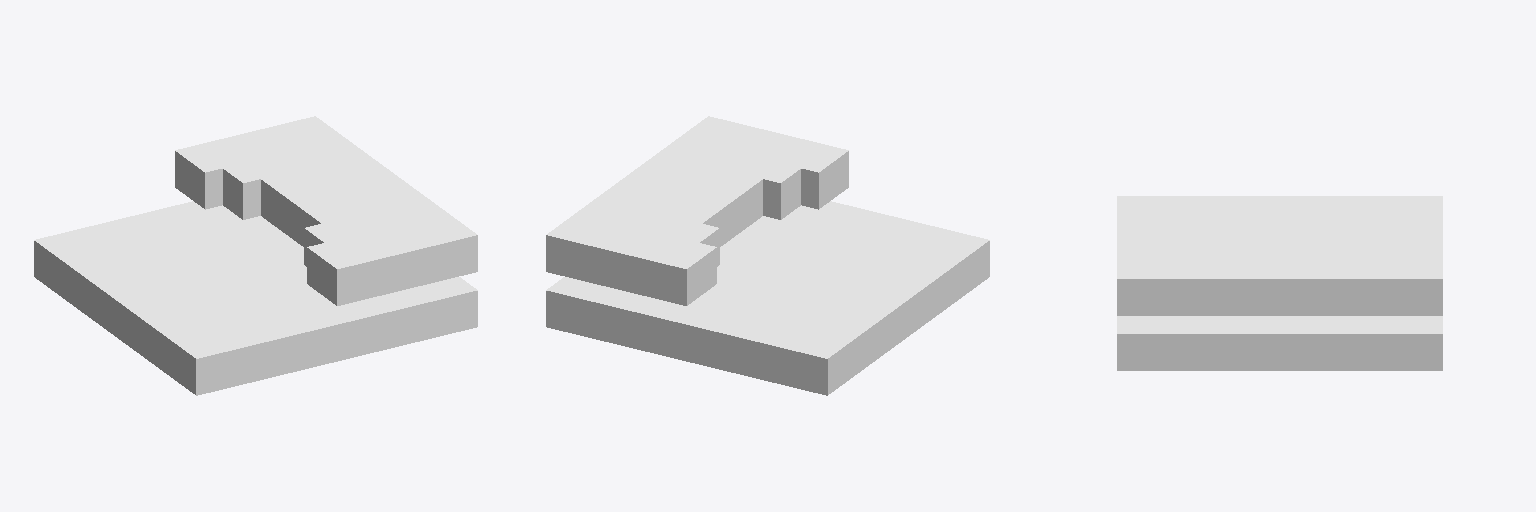
File: MagmaGroundLateral.obj
3 renders of one model, left to right at view 1: azimuth 30°, elevation 25°; view 2: azimuth 150°, elevation 25°; view 3: azimuth 270°, elevation 25°, orthographic.
Parts seen in each view (by area): view 1: object 1; view 2: object 1; view 3: object 1.
Part boxes in pixels (bbox=[...]): object 1: bbox=[34, 116, 477, 395]; object 1: bbox=[546, 116, 989, 395]; object 1: bbox=[1117, 196, 1442, 370].
Bounding box in the file's own units: 1.6 × 0.5 × 1.6.